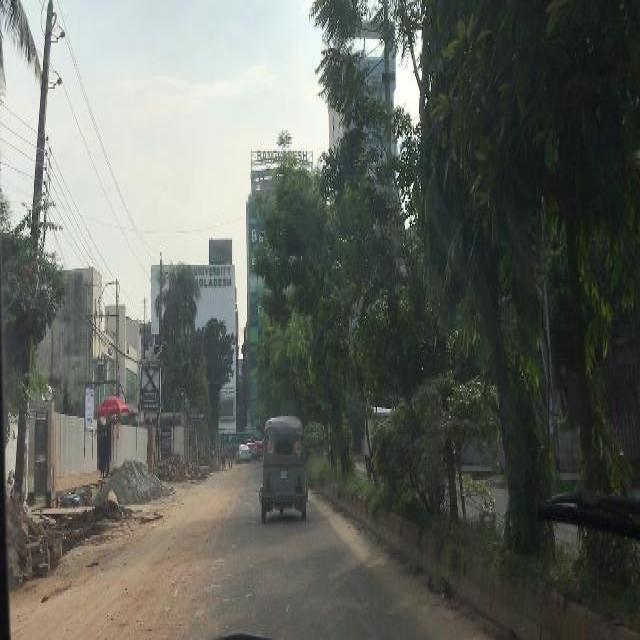bus: (218, 432, 260, 450)
car: (234, 446, 250, 461)
pickup: (363, 402, 393, 468)
three wheelers -CNG-: (258, 420, 306, 519)
